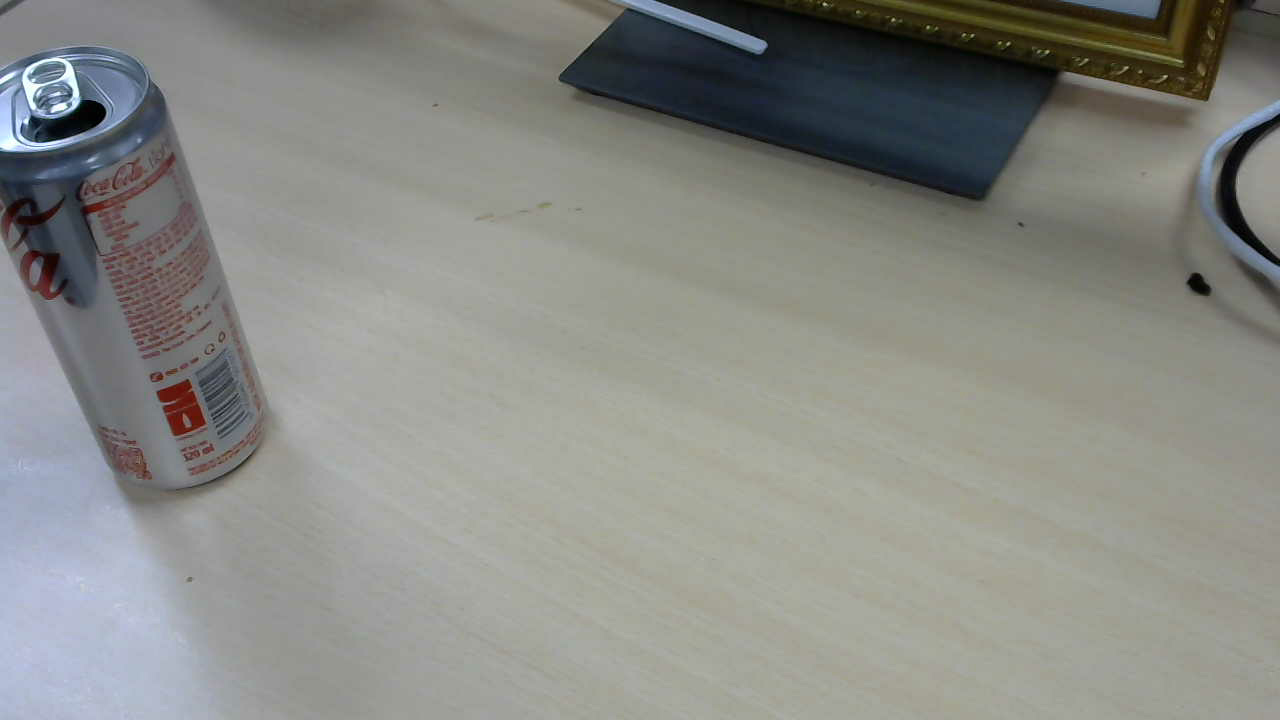Coca_Cola: (4, 52, 279, 499)
